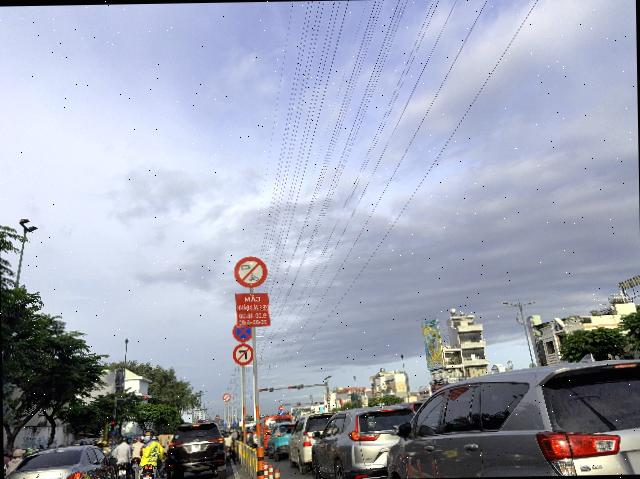cam-re-phai: (232, 342, 253, 366)
cam-xe-2-banh-3-banh: (234, 256, 268, 288)
